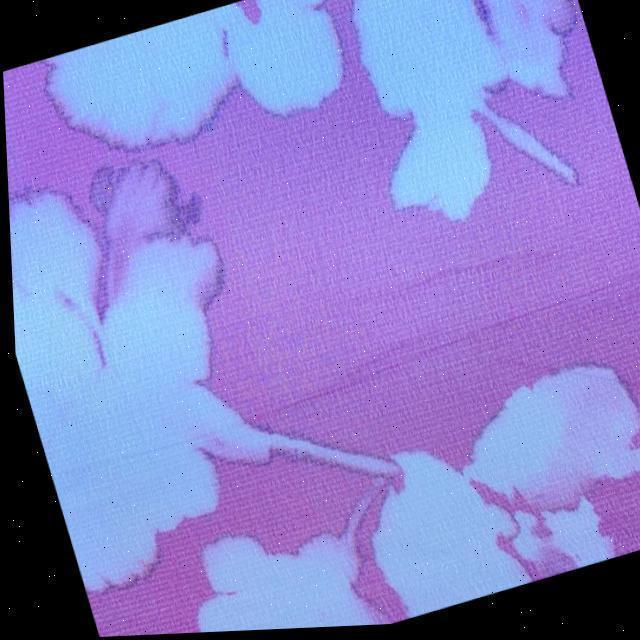pulled_or_thick_thread: (270, 287, 626, 416)
